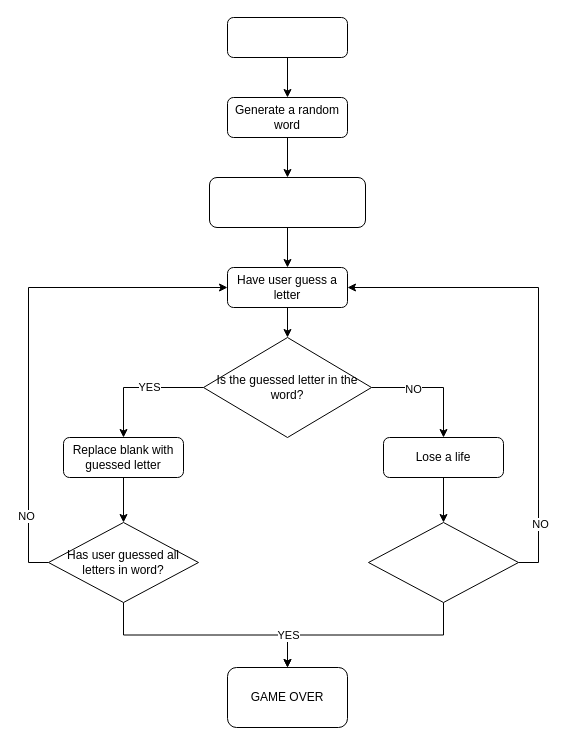
This 565x745 diagram has some shape labels left out. Here are the shapes that lost their labels. From the top down, the centre of each, then its label:
At pixel 287 37: "START".
At pixel 287 202: "Create blanks = amount of letters in random word".
At pixel 443 562: "Has user run out of lives?".
